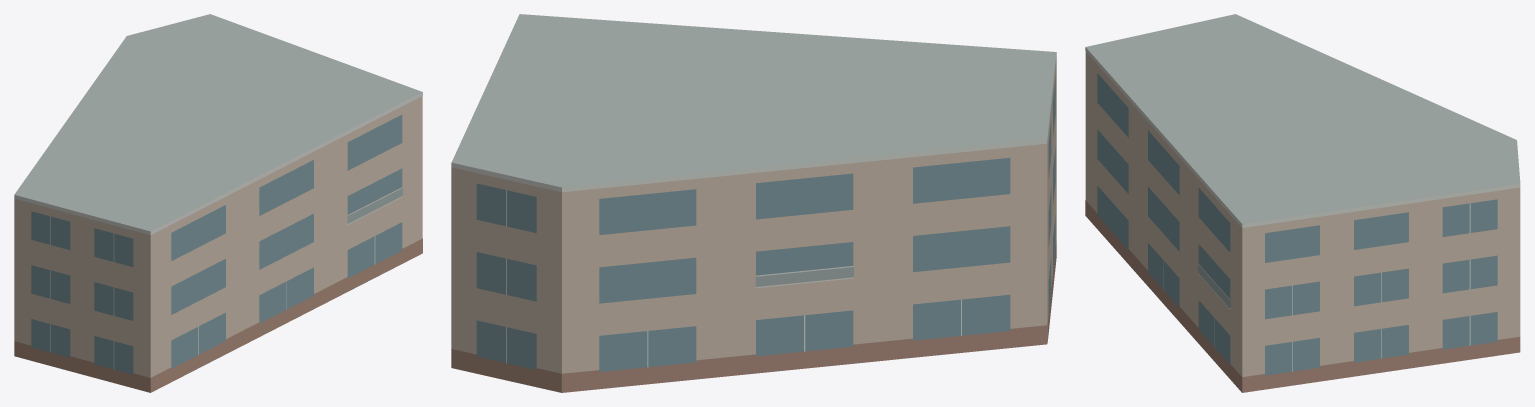
File: survey-upis-32864359.glb
3 renders of one model, left to right at view 1: azimuth 30°, elevation 25°; view 2: azimuth 150°, elevation 25°; view 3: azimuth 270°, elevation 25°, orthographic. The views are drawn at different scales.
Visible parts, largest first — view 1: survey-upis-32864359.tmp; view 2: survey-upis-32864359.tmp; view 3: survey-upis-32864359.tmp.
Boxes of the visible parts, <box> form: survey-upis-32864359.tmp: <box>14,14,422,392</box>; survey-upis-32864359.tmp: <box>451,14,1056,392</box>; survey-upis-32864359.tmp: <box>1085,14,1520,392</box>.
Bounding box in the file's own units: 27.63 × 10.35 × 24.17.
